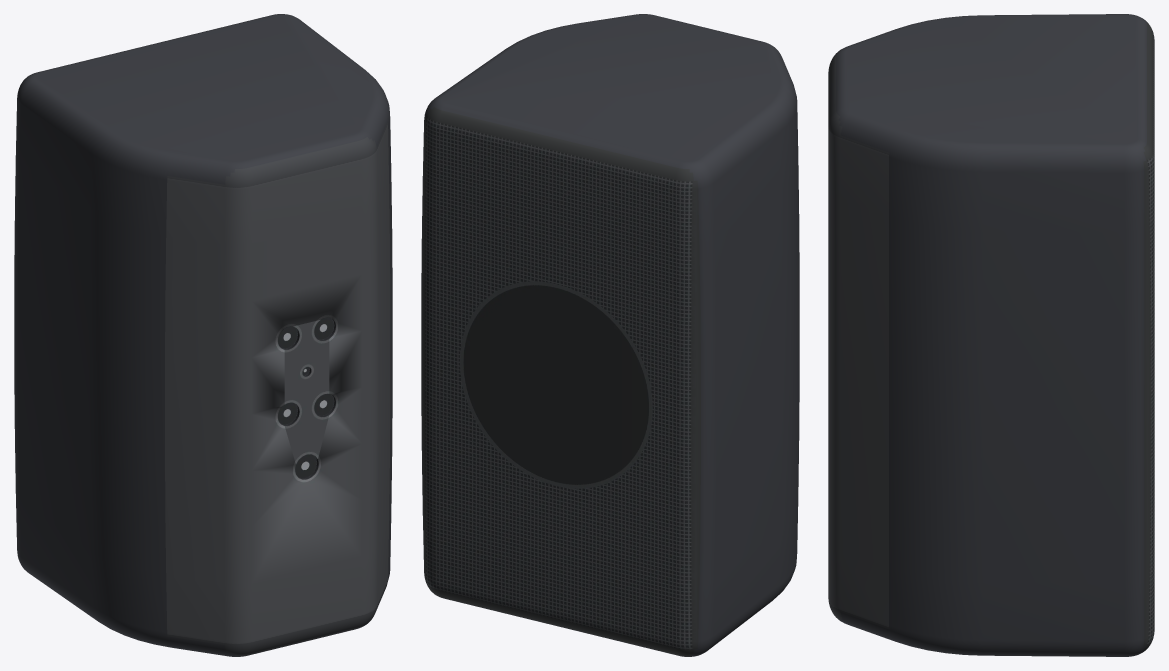
The model's file is qsc-k10-2.glb.
The picture shows the model from 3 angles, left to right: view 1: azimuth 30°, elevation 25°; view 2: azimuth 150°, elevation 25°; view 3: azimuth 270°, elevation 25°; orthographic projection. The views are drawn at different scales.
Parts seen in each view (by area): view 1: qsc-k10-2-body; view 2: qsc-k10-2-body; view 3: qsc-k10-2-body.
Boxes of the visible parts, x1,y1,x2,y2 form: qsc-k10-2-body: (14,14,392,656); qsc-k10-2-body: (421,14,799,656); qsc-k10-2-body: (828,14,1154,656).
Size of the model in its own units: 0.32 by 0.519 by 0.3.
1 material, 1 textured.
